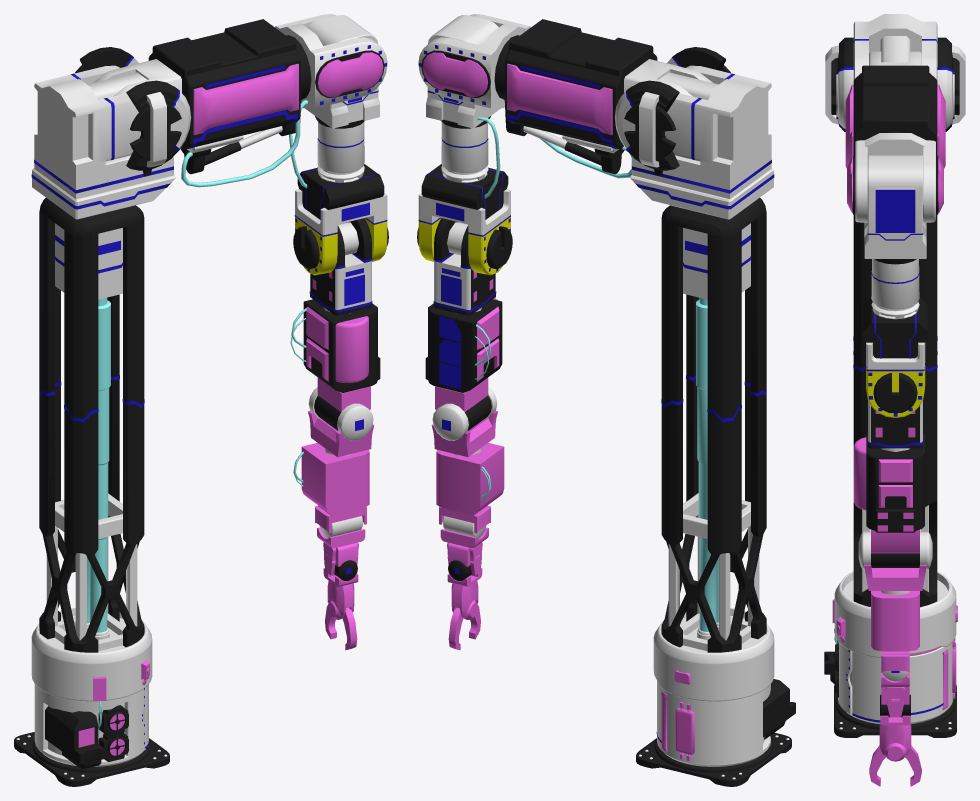
File: SA_MechanicalArm_Assembled.fbx
3 views of the same model, side by side, from view 1: azimuth 30°, elevation 25°; view 2: azimuth 150°, elevation 25°; view 3: azimuth 270°, elevation 25° (orthographic).
Parts seen in each view (by area): view 1: SA_MechanicalArm_01, SA_MechanicalArm_03, SA_MechanicalArm_02, SA_MechanicalArm_04, SA_MechanicalArm_05, SA_MechanicalArm_07, SA_MechanicalArm_06, SA_MechanicalArm_08, SA_MechanicalArm_09; view 2: SA_MechanicalArm_01, SA_MechanicalArm_03, SA_MechanicalArm_02, SA_MechanicalArm_04, SA_MechanicalArm_05, SA_MechanicalArm_07, SA_MechanicalArm_06, SA_MechanicalArm_09, SA_MechanicalArm_08; view 3: SA_MechanicalArm_01, SA_MechanicalArm_04, SA_MechanicalArm_03, SA_MechanicalArm_02, SA_MechanicalArm_05, SA_MechanicalArm_07, SA_MechanicalArm_06, SA_MechanicalArm_09, SA_MechanicalArm_08, SA_MechanicalArm_Claw_02, SA_MechanicalArm_Claw_01.
Part boxes in pixels (bbox=[...]): SA_MechanicalArm_01: bbox=[14, 198, 169, 786]; SA_MechanicalArm_03: bbox=[93, 14, 387, 187]; SA_MechanicalArm_02: bbox=[31, 47, 191, 219]; SA_MechanicalArm_04: bbox=[289, 15, 388, 275]; SA_MechanicalArm_05: bbox=[290, 218, 380, 392]; SA_MechanicalArm_07: bbox=[293, 387, 374, 538]; SA_MechanicalArm_06: bbox=[314, 377, 370, 430]; SA_MechanicalArm_08: bbox=[317, 527, 365, 575]; SA_MechanicalArm_09: bbox=[323, 560, 358, 617]; SA_MechanicalArm_01: bbox=[636, 198, 795, 786]; SA_MechanicalArm_03: bbox=[418, 14, 712, 178]; SA_MechanicalArm_02: bbox=[614, 47, 774, 219]; SA_MechanicalArm_04: bbox=[417, 15, 512, 275]; SA_MechanicalArm_05: bbox=[425, 218, 502, 392]; SA_MechanicalArm_07: bbox=[431, 387, 504, 538]; SA_MechanicalArm_06: bbox=[435, 377, 491, 430]; SA_MechanicalArm_09: bbox=[447, 560, 482, 617]; SA_MechanicalArm_08: bbox=[440, 527, 488, 575]; SA_MechanicalArm_01: bbox=[824, 205, 957, 737]; SA_MechanicalArm_04: bbox=[863, 155, 927, 417]; SA_MechanicalArm_03: bbox=[845, 51, 945, 222]; SA_MechanicalArm_02: bbox=[825, 14, 965, 131]; SA_MechanicalArm_05: bbox=[853, 400, 924, 532]; SA_MechanicalArm_07: bbox=[858, 531, 932, 681]; SA_MechanicalArm_06: bbox=[871, 529, 919, 567]; SA_MechanicalArm_09: bbox=[879, 695, 911, 754]; SA_MechanicalArm_08: bbox=[881, 672, 909, 717]; SA_MechanicalArm_Claw_02: bbox=[884, 743, 921, 786]; SA_MechanicalArm_Claw_01: bbox=[869, 745, 885, 786].
Bounding box in the file's own units: 577 × 1102 × 205.
